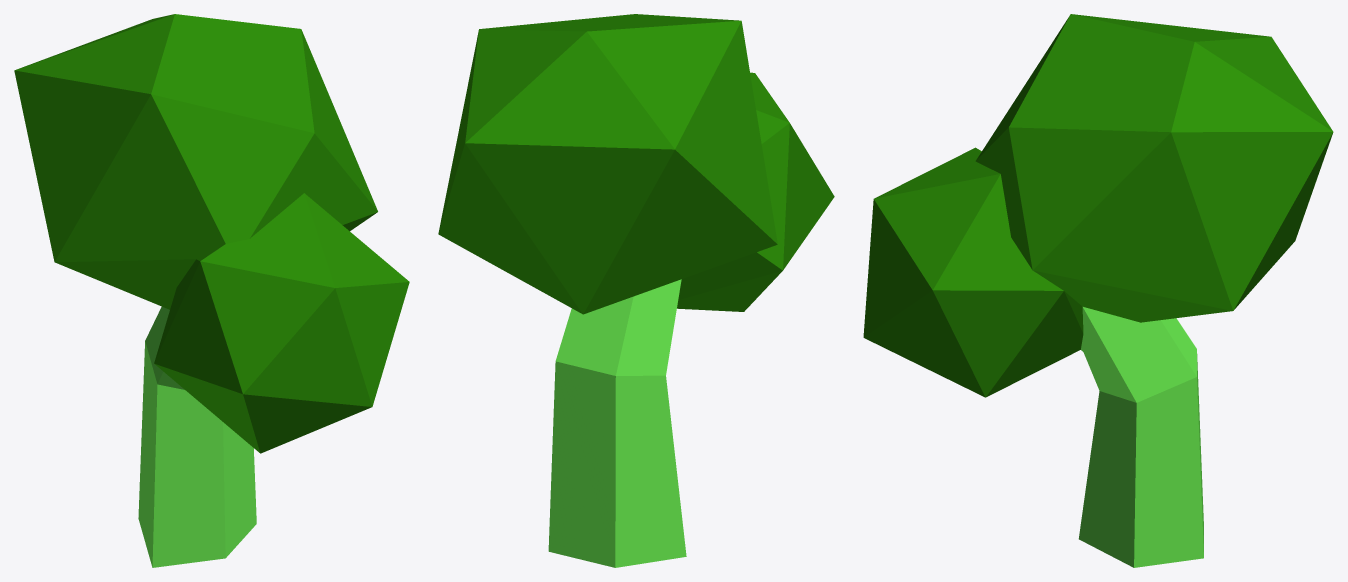
File: broccoli02.gltf
The picture shows the model from 3 angles, left to right: view 1: azimuth 30°, elevation 25°; view 2: azimuth 150°, elevation 25°; view 3: azimuth 270°, elevation 25°; orthographic projection. The views are drawn at different scales.
Visible parts, largest first — view 1: Cylinder; view 2: Cylinder; view 3: Cylinder.
Part boxes in pixels (<box>): Cylinder: <box>14,14,409,567</box>; Cylinder: <box>438,14,834,567</box>; Cylinder: <box>863,14,1333,567</box>.
Size of the model in its own units: 0.0373 by 0.0668 by 0.0554.
Materials: 1 (1 with a texture image).
